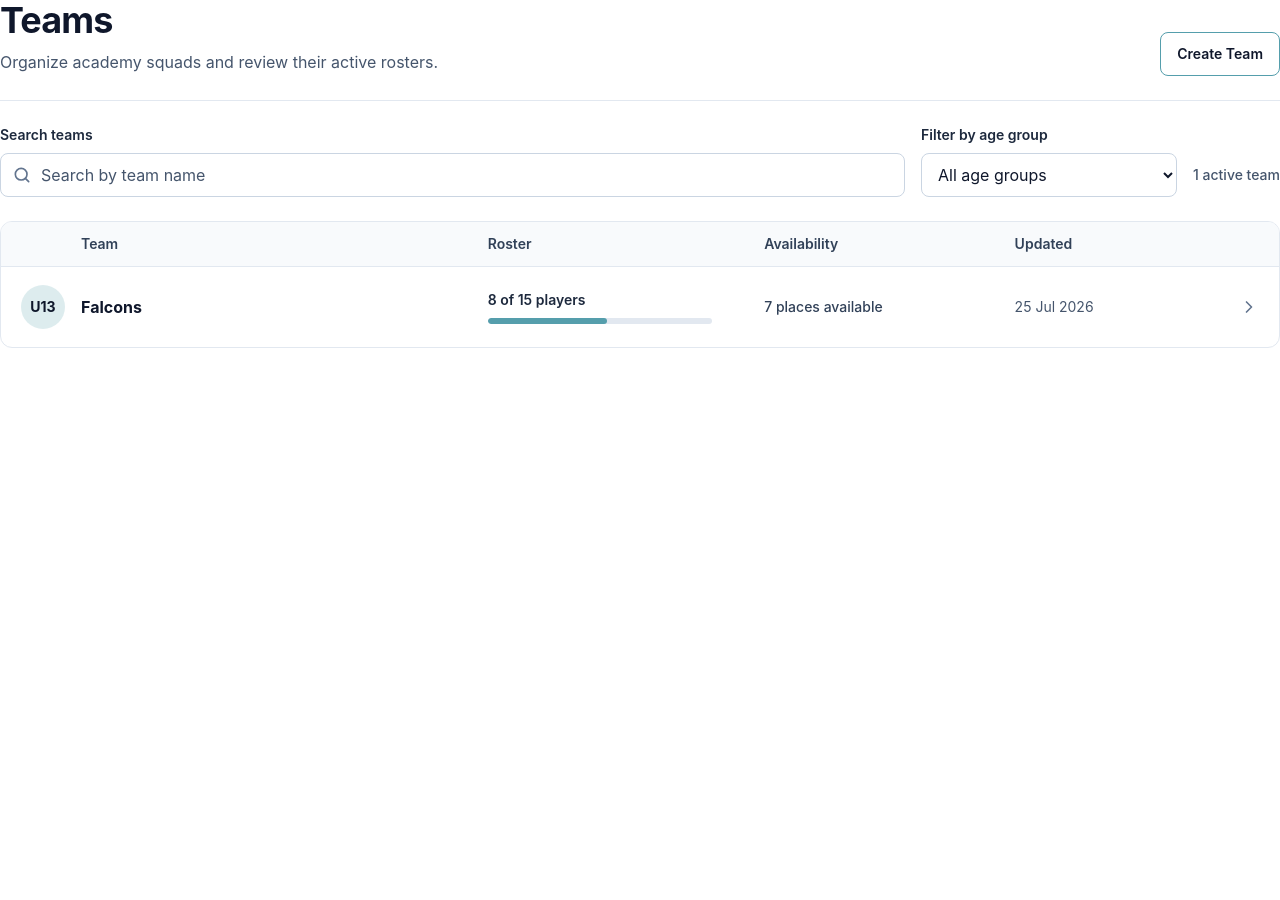
Test: TeamsPage › replaces team details with player details when roster info is opened
Click the button with aria-label "View Falcons" at (43, 307), box [1,267,1279,347]
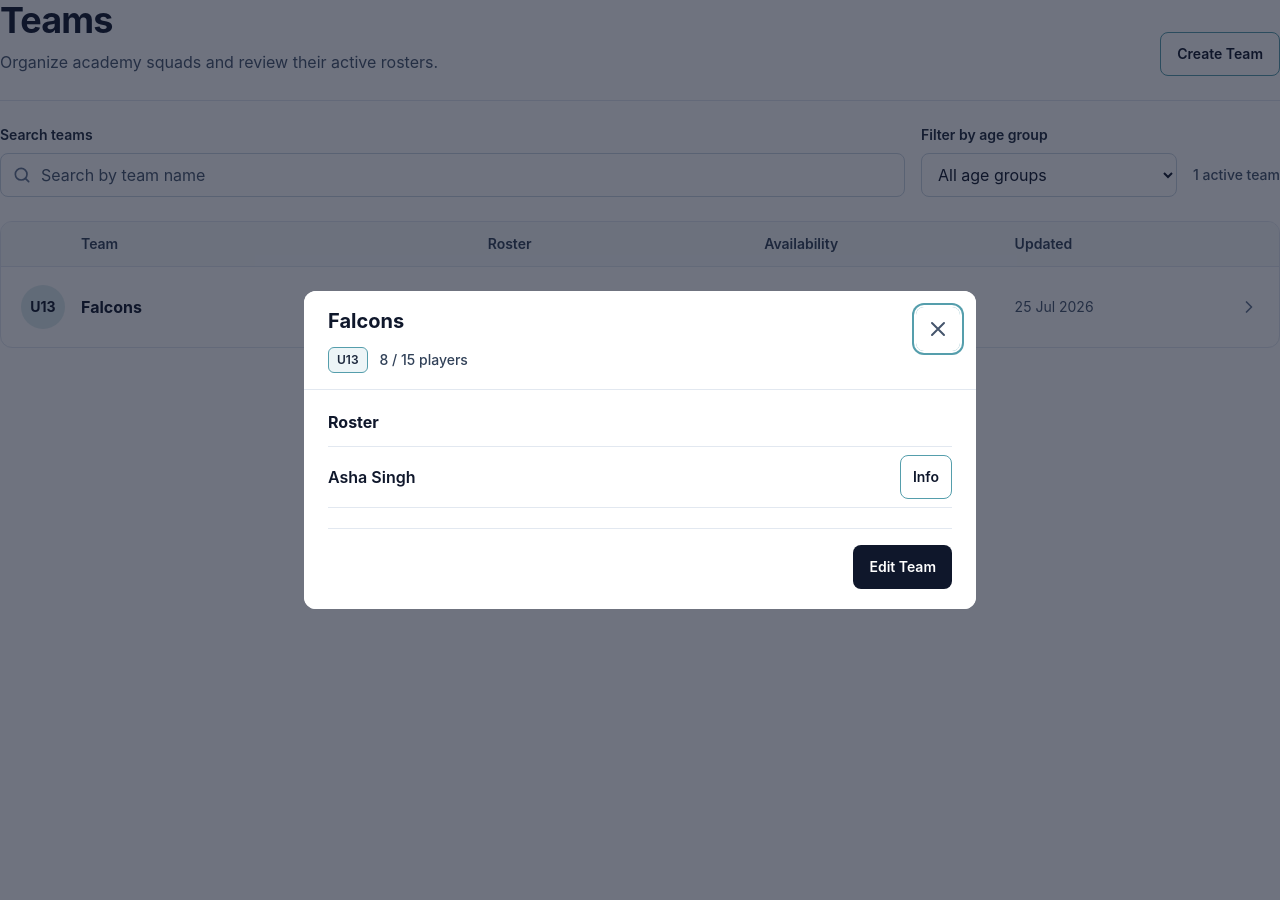
Expected: the dialog "Falcons" is shown, [304,291,976,609]
Click the button with aria-label "View Asha Singh" at (926, 477), box [900,455,952,499]
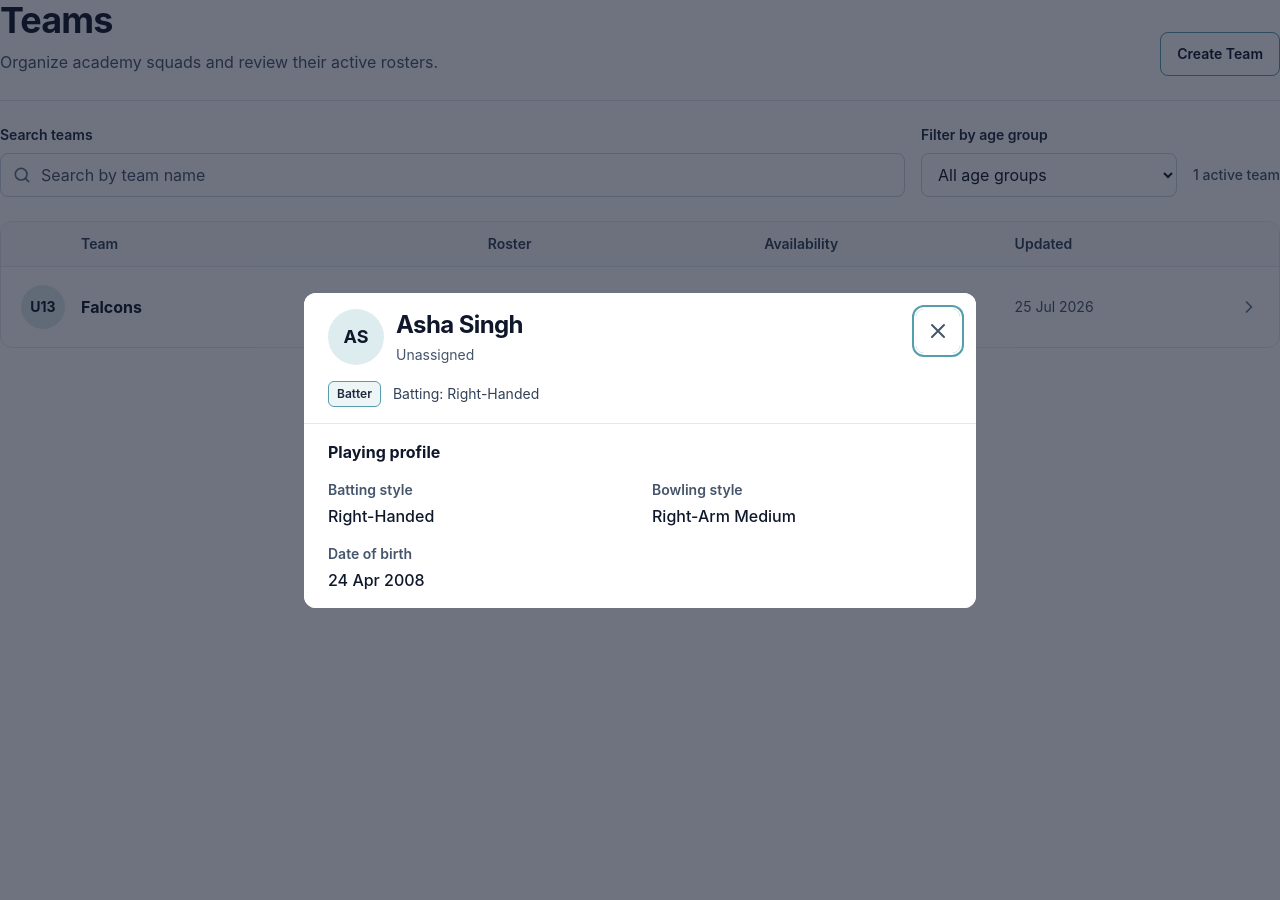
Expected: the dialog "Asha Singh" is shown, [304,292,976,608]
